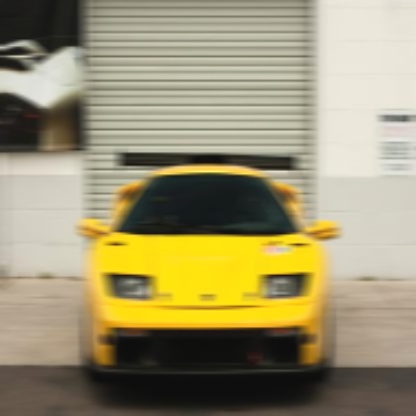Vehicle: (81, 147, 338, 381)
